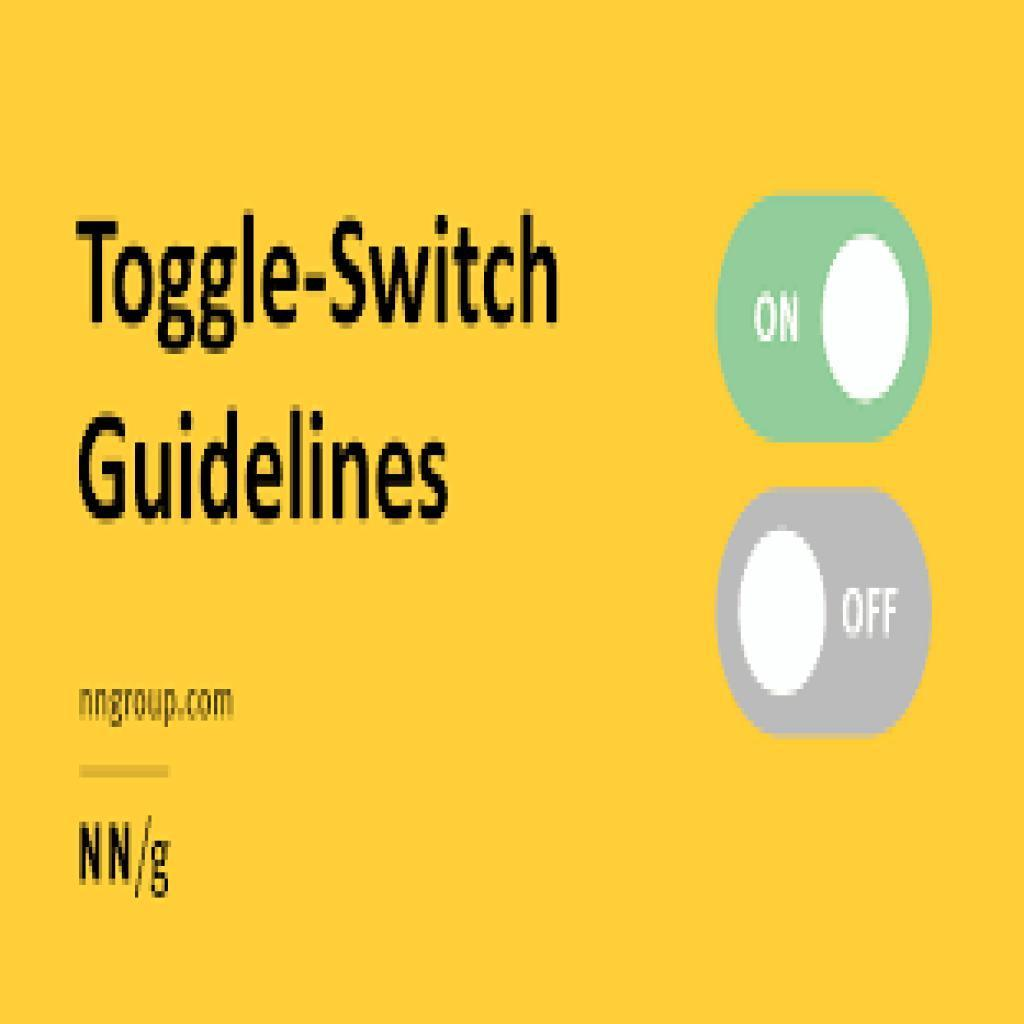switch: (710, 195, 933, 446), (708, 490, 932, 739)
